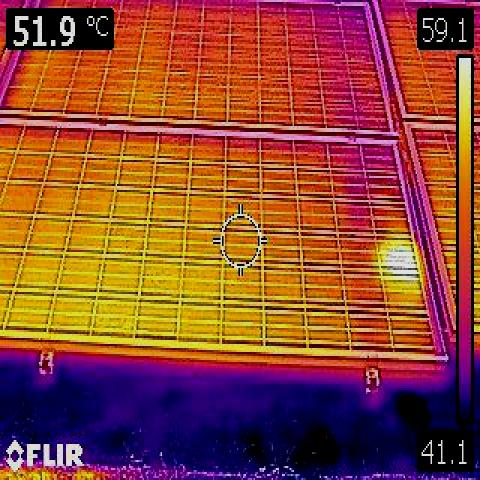fault: (379, 242, 419, 280)
